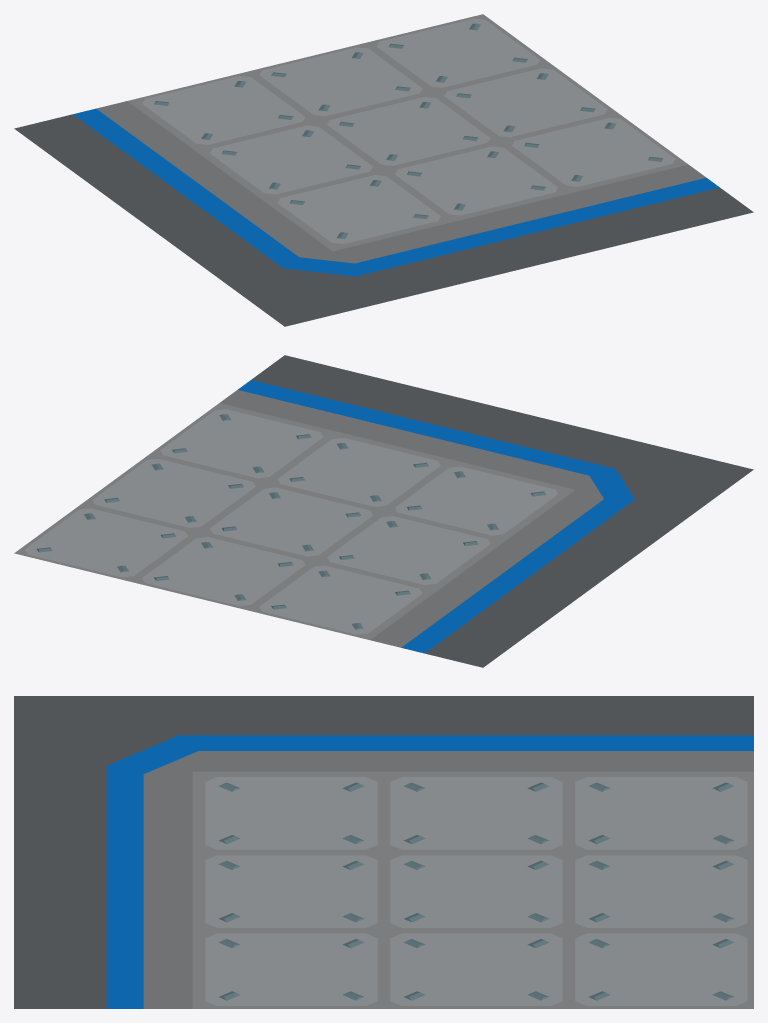
File: Floor_type_B_003.fbx
3 renders of one model, top to bottom at view 1: azimuth 30°, elevation 25°; view 2: azimuth 150°, elevation 25°; view 3: azimuth 270°, elevation 25°, orthographic. The views are drawn at different scales.
Visible parts, largest first — view 1: Floor_type_B_003; view 2: Floor_type_B_003; view 3: Floor_type_B_003.
Part boxes in pixels (x1=…): Floor_type_B_003: x1=14, y1=14, x2=753, y2=326; Floor_type_B_003: x1=14, y1=355, x2=753, y2=667; Floor_type_B_003: x1=14, y1=696, x2=753, y2=1008.
Bounding box in the file's own units: 400 × 400 × 0.8.
